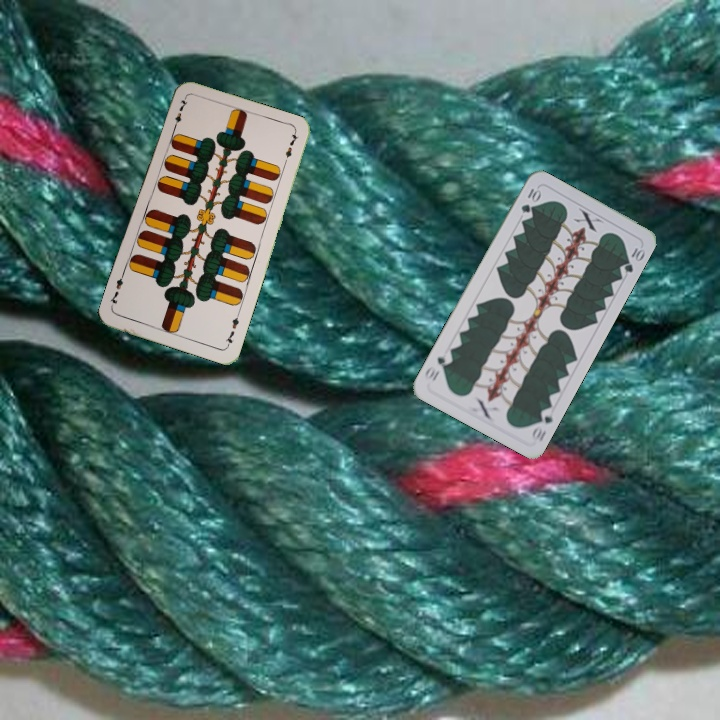E7: (221, 309, 242, 349), (169, 94, 190, 133)
G10: (527, 404, 556, 445), (517, 184, 543, 215)
